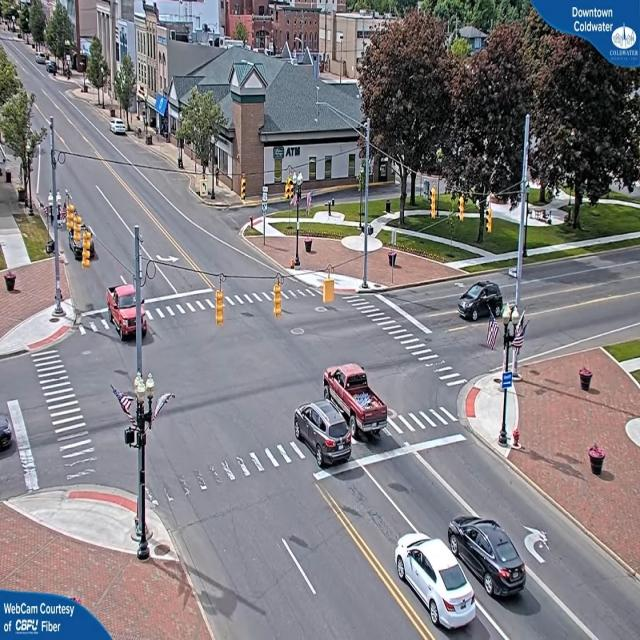car: (398, 534, 472, 614), (292, 397, 352, 467), (460, 282, 507, 324), (110, 120, 128, 136)
